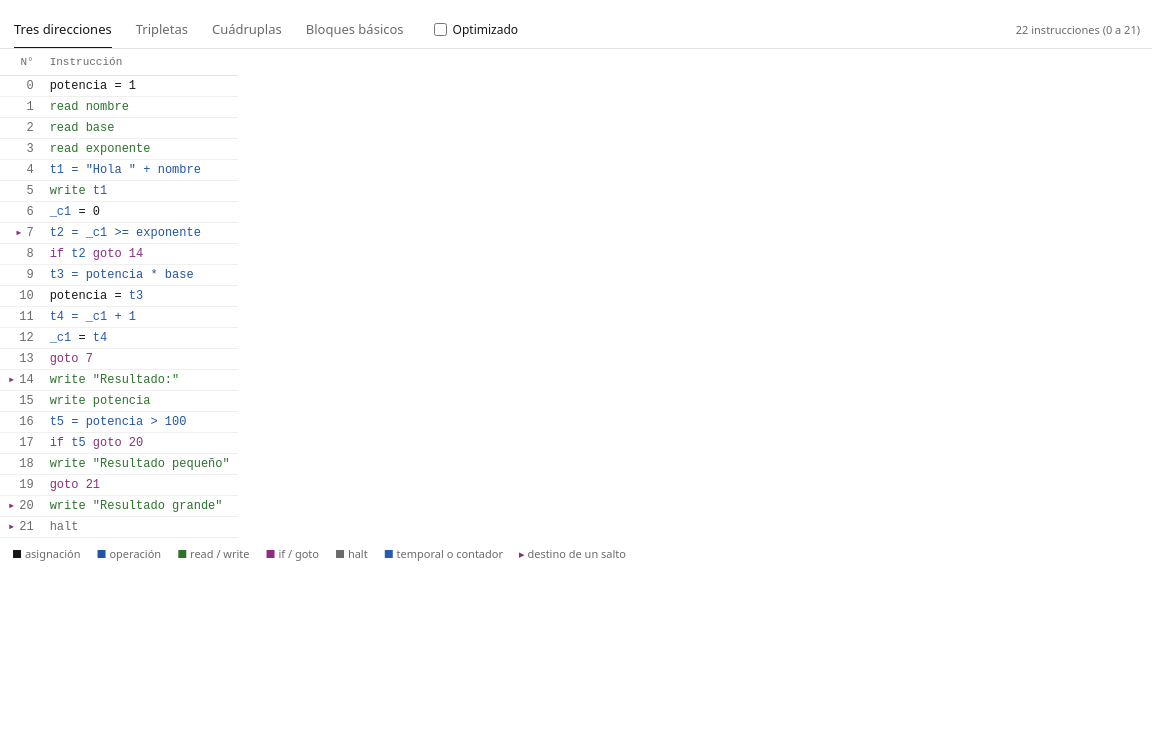
Scenario: código intermedio optimizado › después de ejecutar compara las instrucciones ejecutadas
Click the checkbox labelled "Optimizado".
click(440, 30)  # box [434, 23, 447, 36]
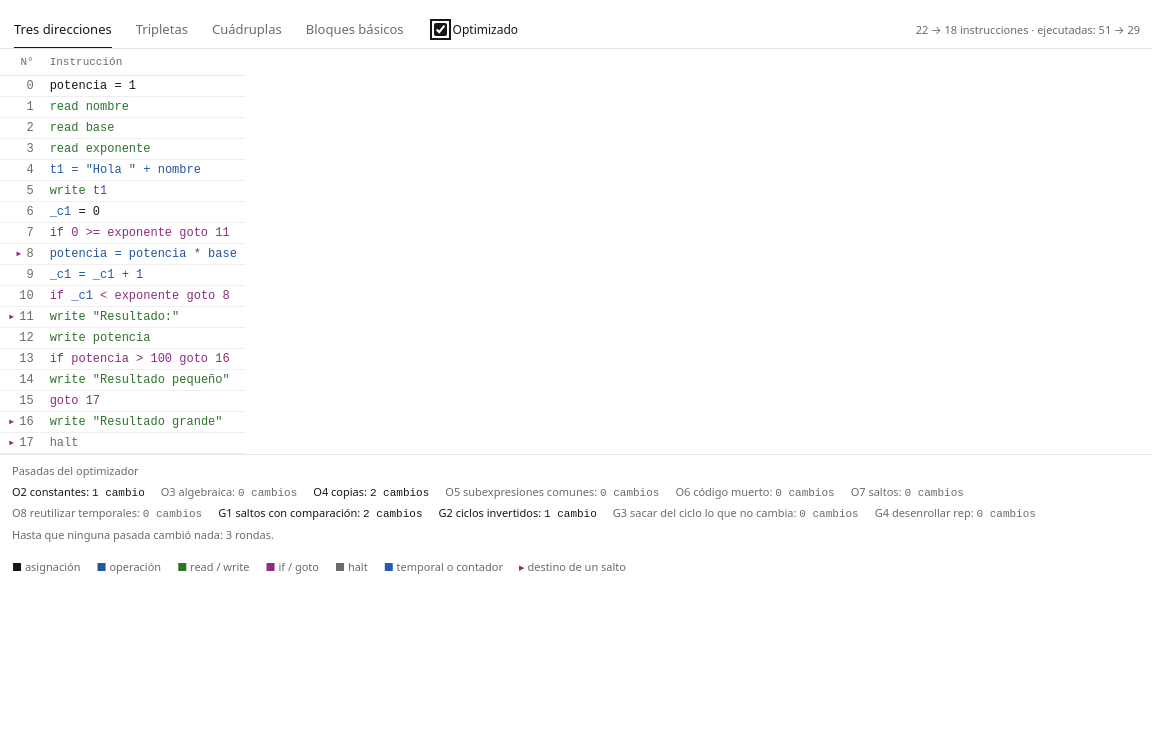
Check: the text "22 → 18 instrucciones · ejecutadas: 51 → 29" is shown, box [908, 22, 1148, 38]
